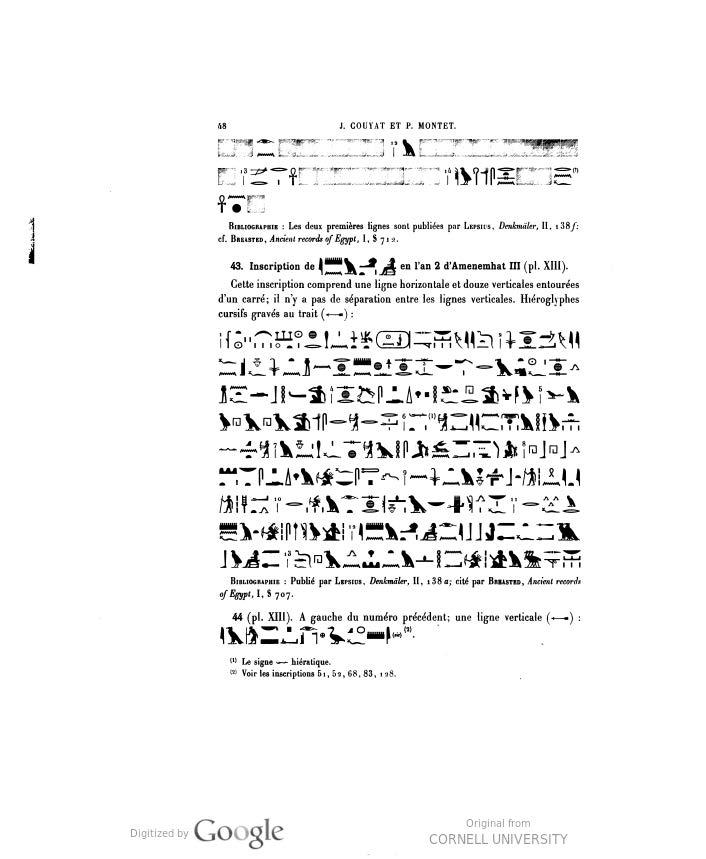circle: (372, 323, 417, 356)
